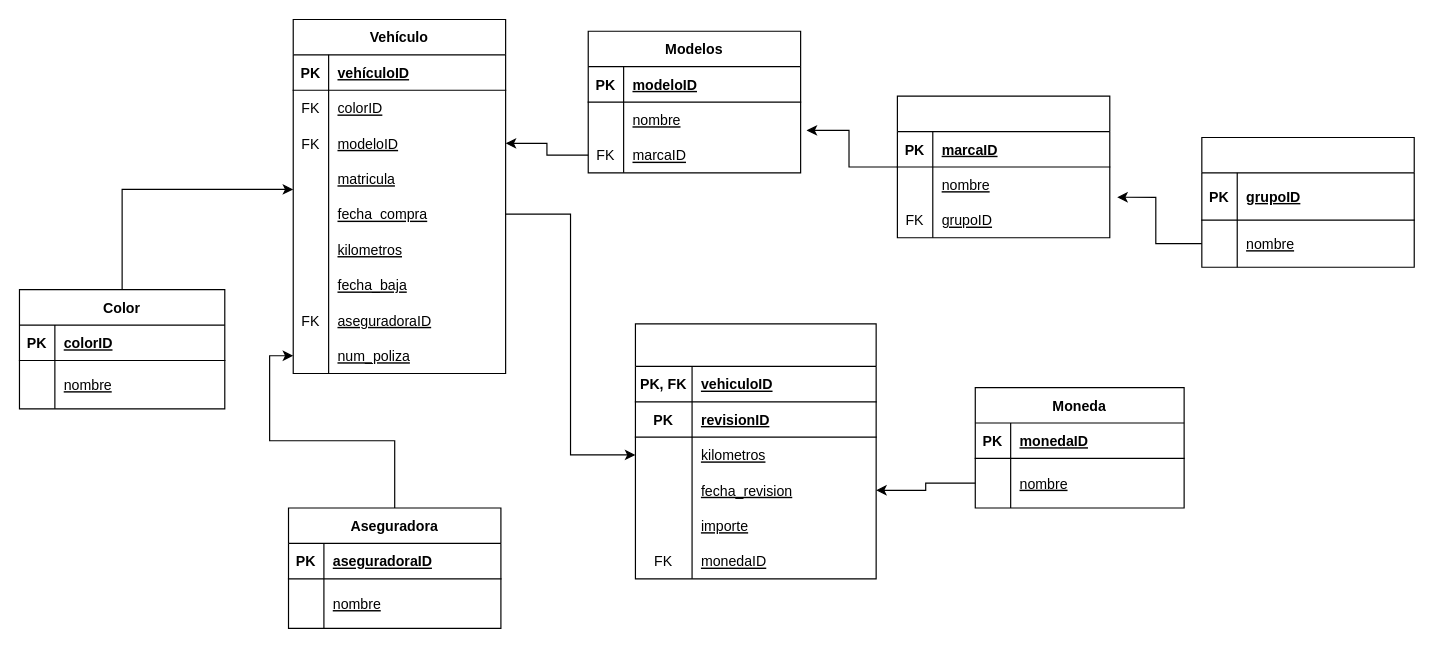
Image size: 1434x648. Some labels were removed from this diagram. The box of each missing label's shape, as (x1, y1, x2, y2) in pixels:
Grupo_empresarial: (1201, 136, 1414, 267)
Marcas: (896, 95, 1110, 238)
Revisiones: (634, 323, 876, 579)
